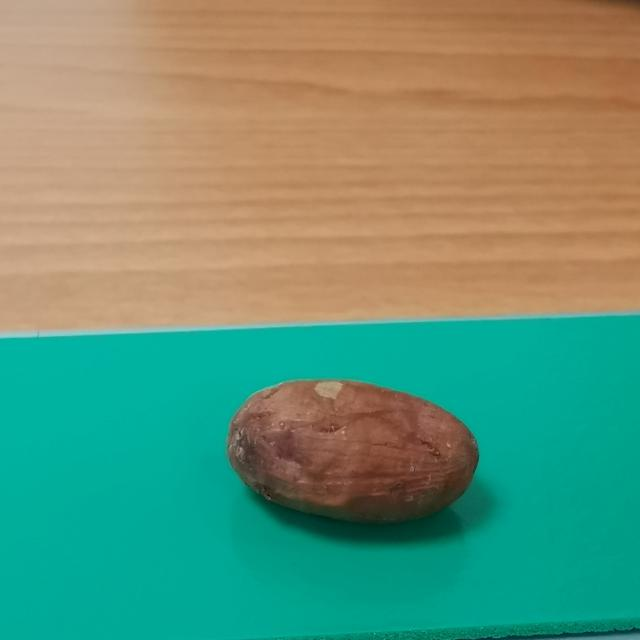Fine_cocoabeans: (168, 354, 559, 574)
